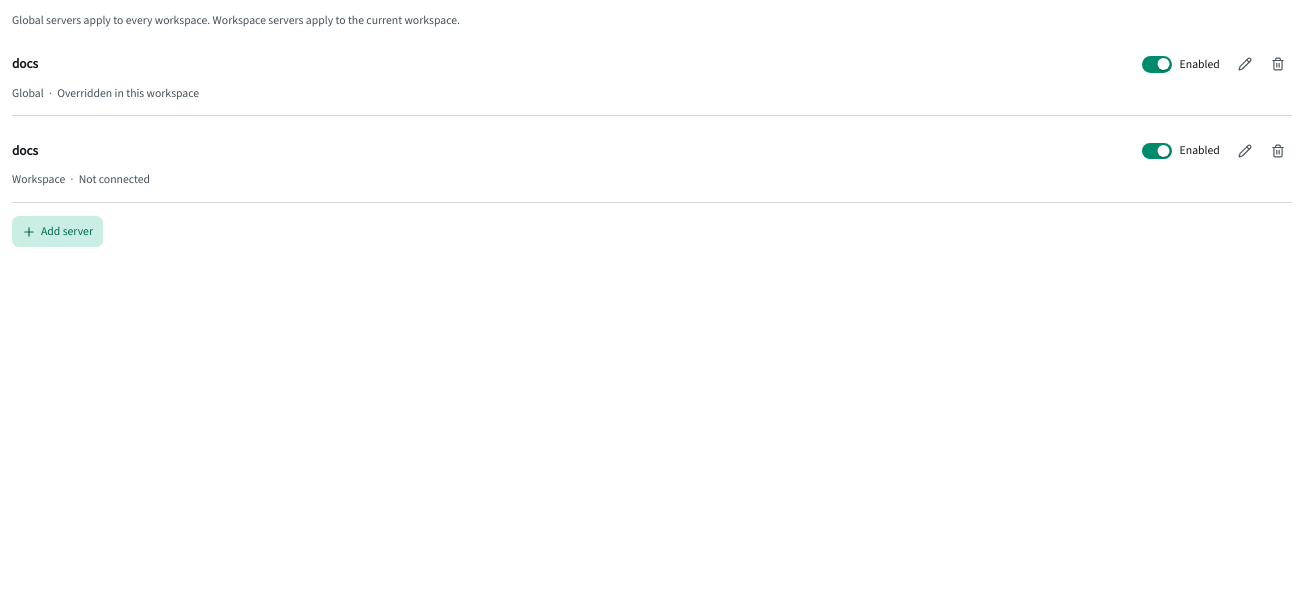
Scenario: McpSettingsPanel › prevents moving into an existing name with Global set to true
This screenshot has width=1304, height=592.
Click the 2nd button named "Edit docs".
click(1245, 151)  # box [1231,137,1258,165]
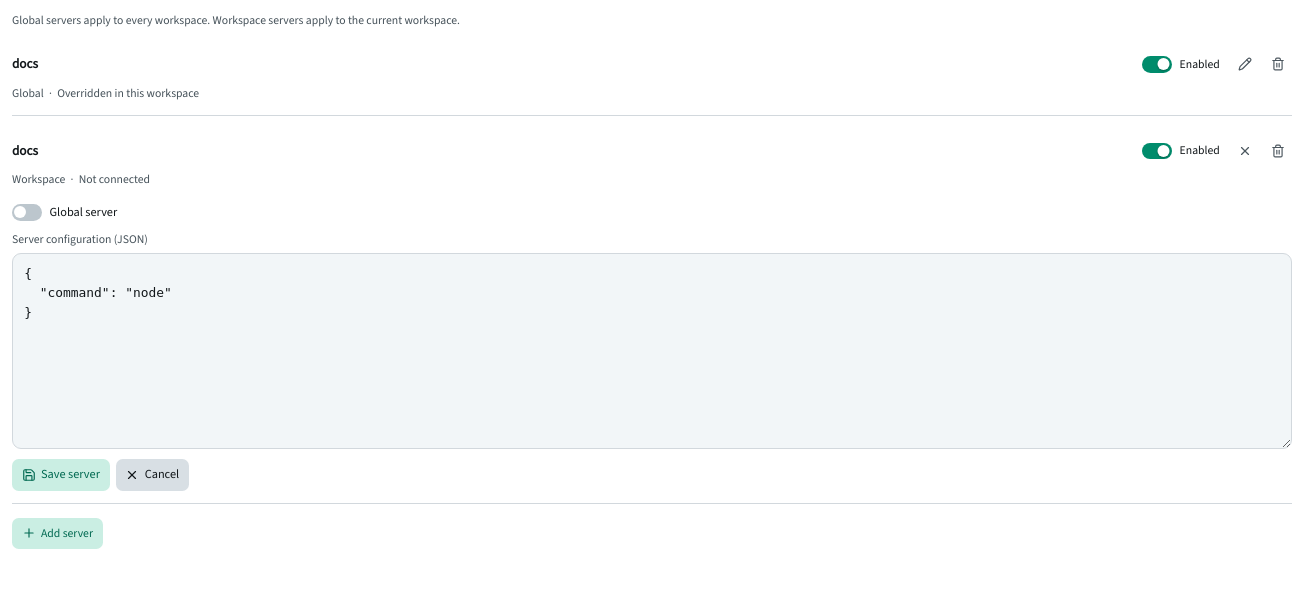
Click the switch named "Global server".
click(65, 212)  # box [12,204,117,221]
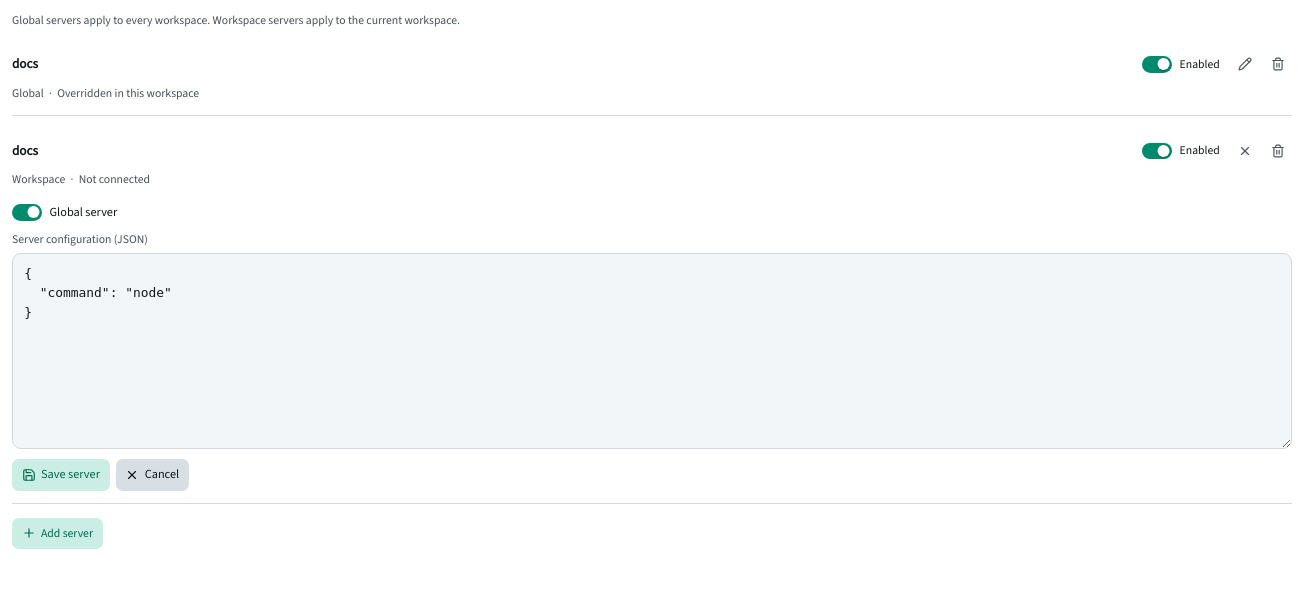
Submit the form with class "mcp-settings__form", box [12,196,1292,490]
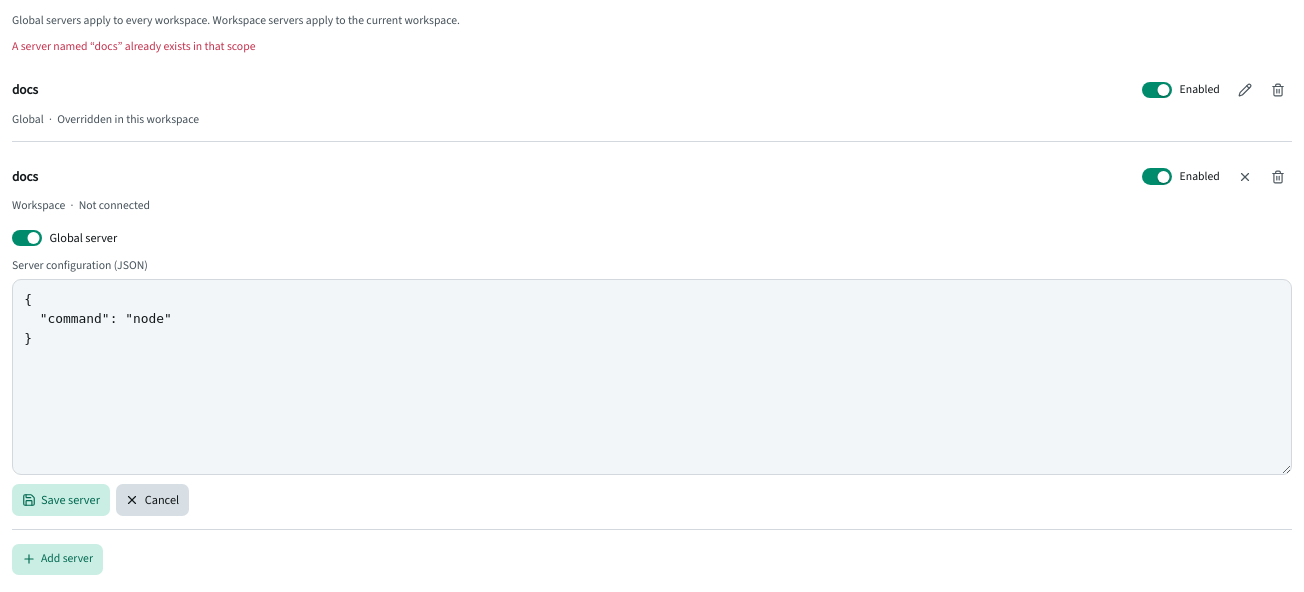
Check: the form with class "mcp-settings__form" is shown, box [12,221,1292,516]
Check: the text "already exists in that scope" is shown, box [12,38,256,54]
